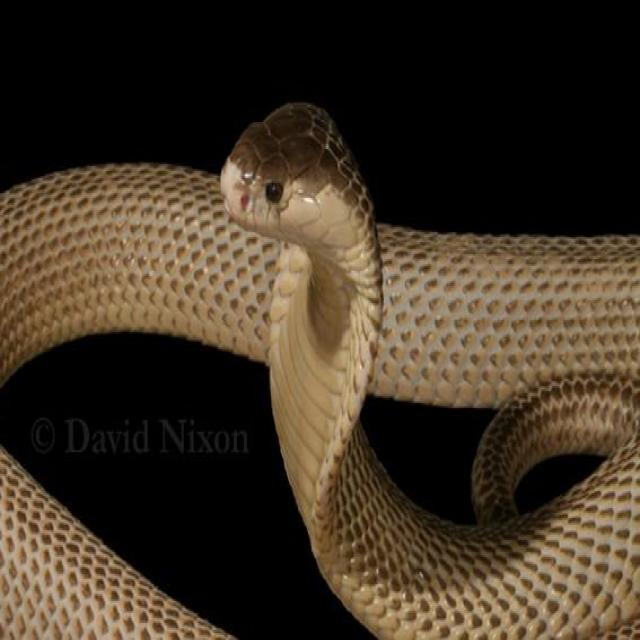Snake: (0, 99, 639, 638)
